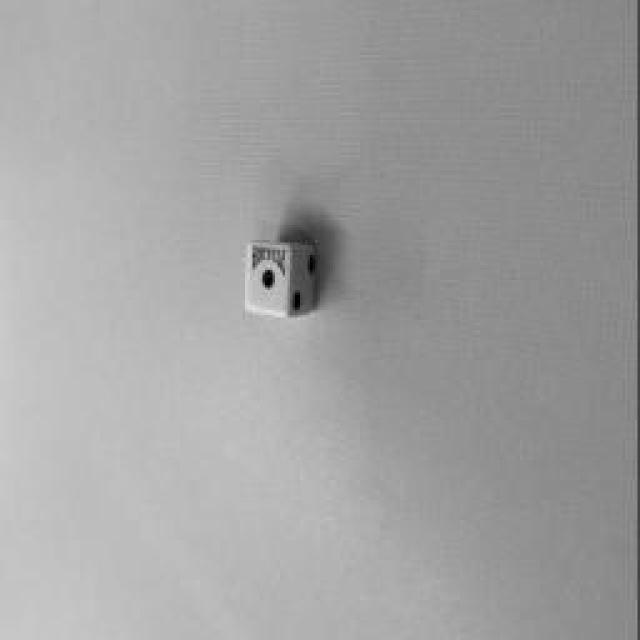dice_1: (246, 242, 292, 318)
